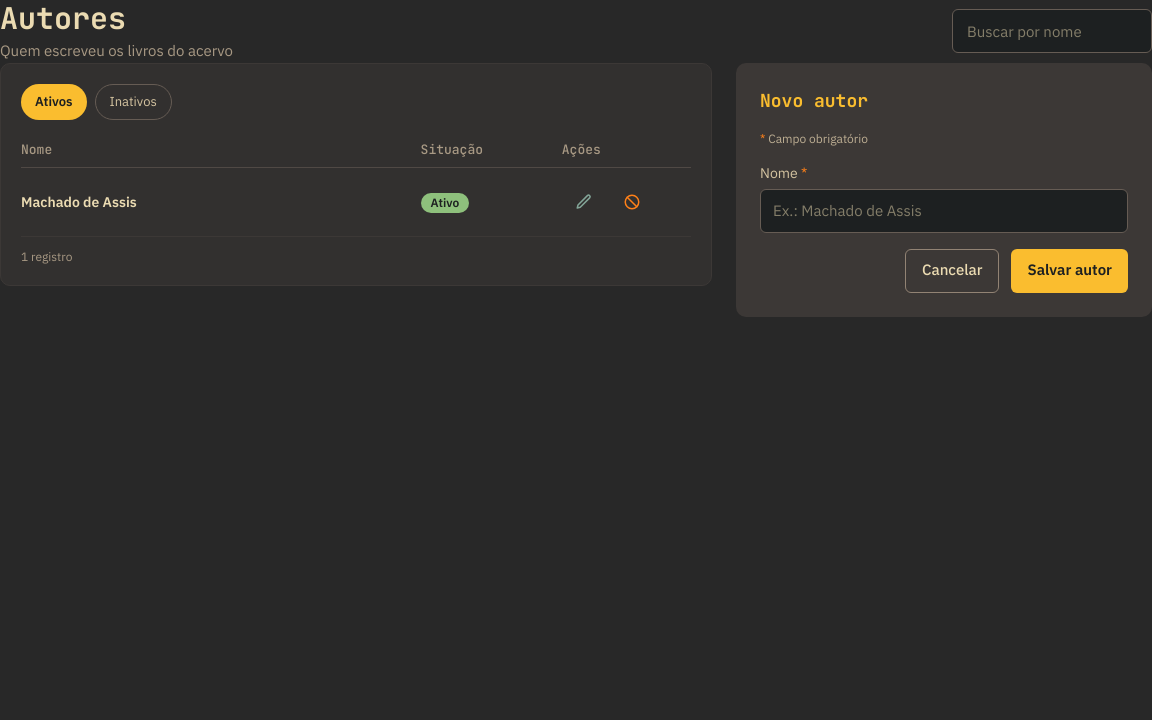
textos do diálogo de inativação › autor: diz que os livros mantêm o autor e que ele não vale para livros novos
The width and height of the screenshot is (1152, 720).
Click the button named "Inativar Machado de Assis" at (632, 202), box [610, 180, 654, 224]
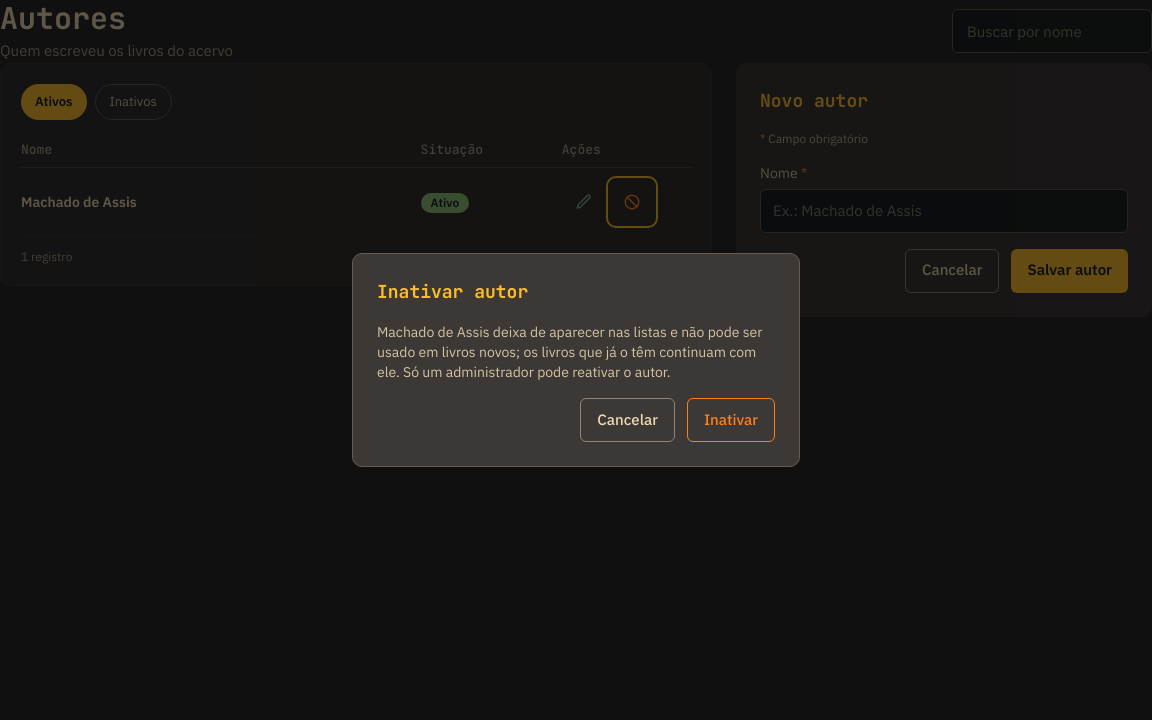
Expected: the dialog shows "não pode ser usado em livros novos", [352, 253, 800, 467]
Expected: the dialog shows "os livros que já o têm continuam com ele", [352, 253, 800, 467]
Expected: the dialog shows "Só um administrador pode reativar o autor.", [352, 253, 800, 467]
